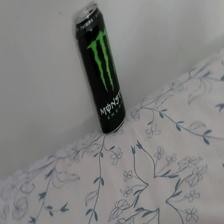Metal: (72, 2, 128, 136)
